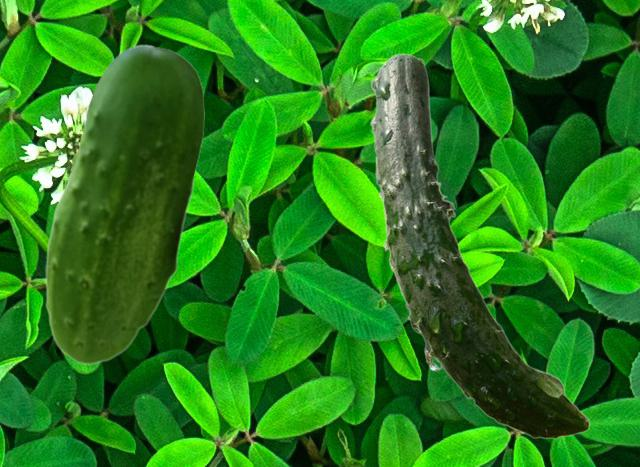cucumber: (369, 53, 589, 438), (45, 44, 203, 364)
